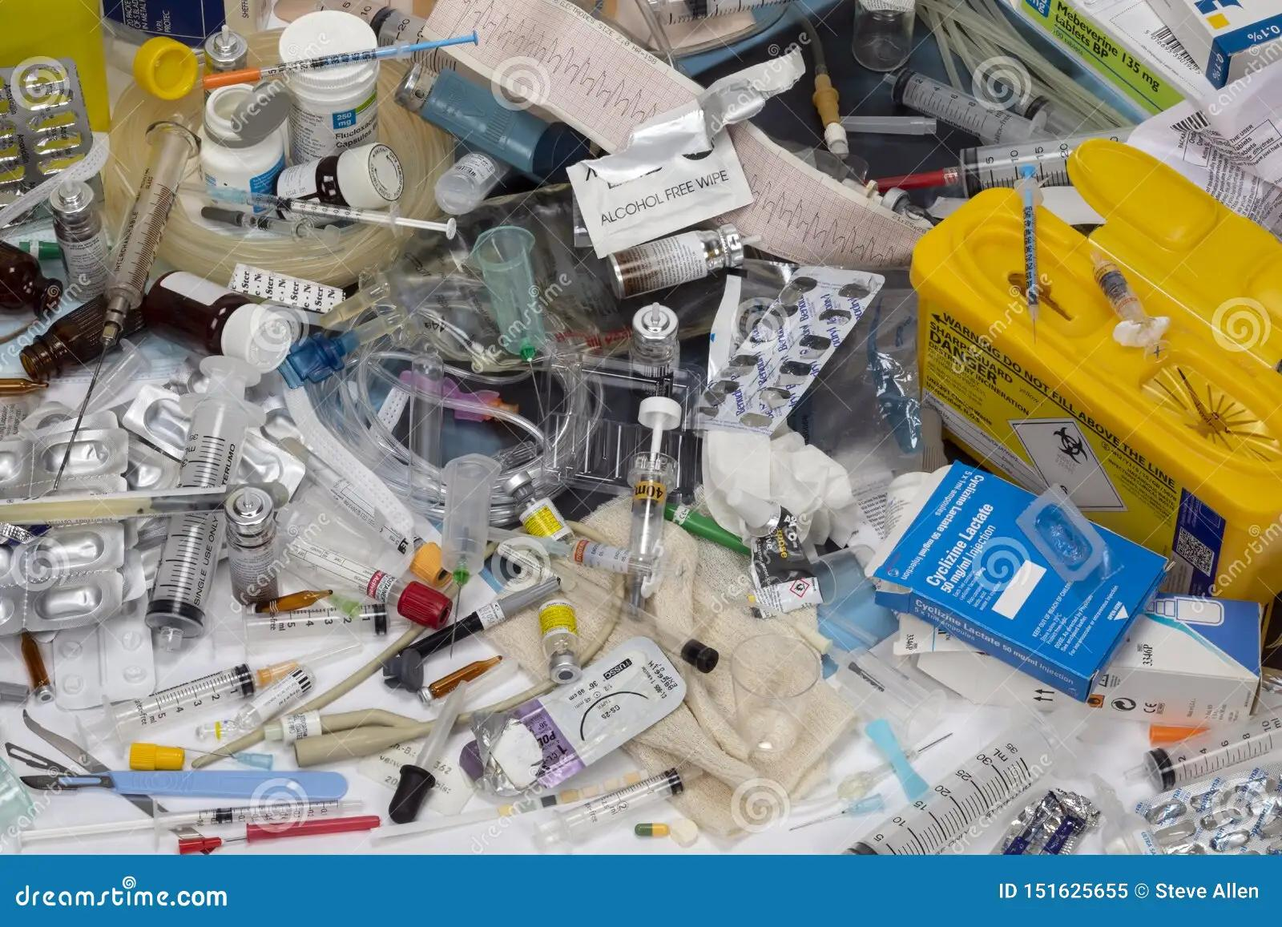Iv_Bottle: (141, 271, 300, 372), (19, 296, 145, 381), (607, 224, 744, 297), (196, 667, 314, 739), (275, 143, 403, 208), (49, 180, 110, 301), (224, 486, 278, 604), (434, 151, 512, 215), (502, 470, 572, 540), (0, 241, 63, 317), (630, 303, 679, 396), (538, 599, 581, 684), (204, 24, 247, 74)
Syringe: (51, 121, 199, 494), (846, 721, 1057, 854), (383, 576, 559, 690), (371, 772, 643, 841), (876, 127, 1133, 196), (94, 659, 299, 743), (196, 639, 362, 739), (203, 31, 477, 91), (18, 800, 361, 846), (279, 437, 408, 552), (286, 538, 451, 627), (534, 768, 697, 849), (203, 187, 456, 238), (1126, 709, 1281, 791), (97, 664, 255, 743), (625, 397, 681, 607), (885, 69, 1043, 143), (389, 682, 469, 823), (179, 356, 264, 486), (0, 486, 228, 524), (1091, 251, 1168, 358), (441, 454, 501, 588), (178, 816, 380, 853), (201, 206, 340, 247), (244, 604, 388, 641), (1015, 166, 1041, 341), (655, 0, 785, 25), (836, 762, 894, 802)
